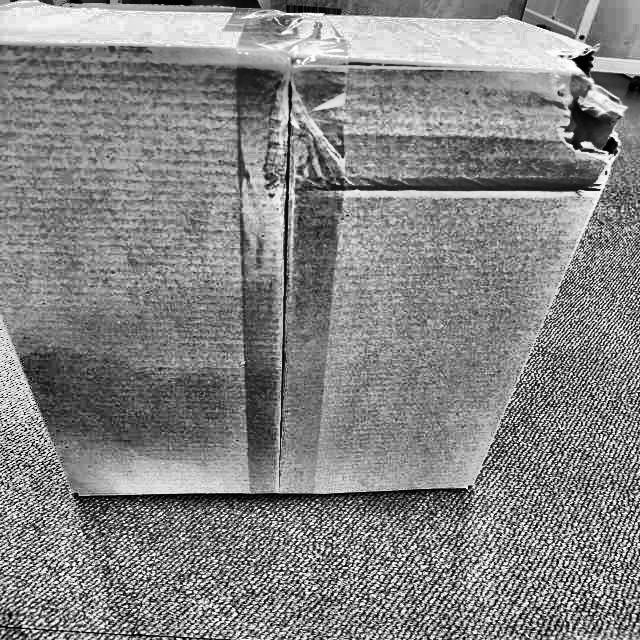box: (0, 0, 617, 513)
hole: (535, 34, 625, 164)
